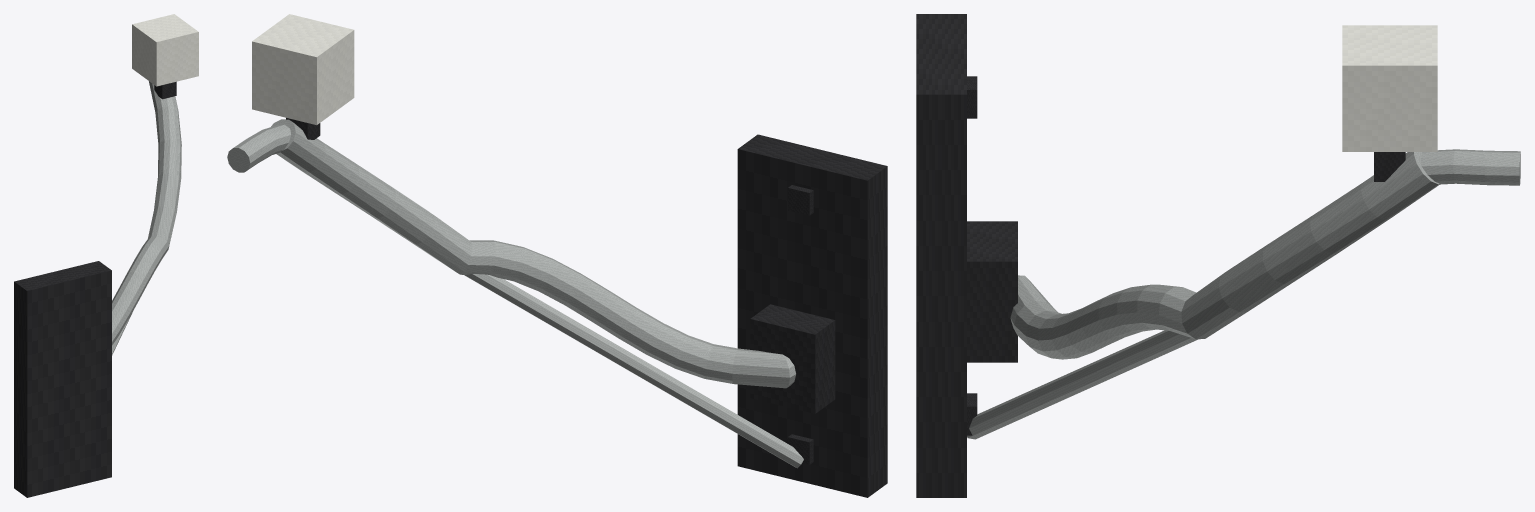
The model's file is arm_1_right.obj.
The picture shows the model from 3 angles, left to right: view 1: azimuth 30°, elevation 25°; view 2: azimuth 150°, elevation 25°; view 3: azimuth 270°, elevation 25°; orthographic projection. The views are drawn at different scales.
Parts seen in each view (by area): view 1: pole_light_mount_1_right; view 2: pole_light_mount_1_right; view 3: pole_light_mount_1_right.
Part boxes in pixels (box(x1,y1,x2,y2)): pole_light_mount_1_right: box(14, 14, 198, 497); pole_light_mount_1_right: box(227, 14, 887, 497); pole_light_mount_1_right: box(916, 14, 1520, 497).
Size of the model in its own units: 1.24 by 1.34 by 1.19.
